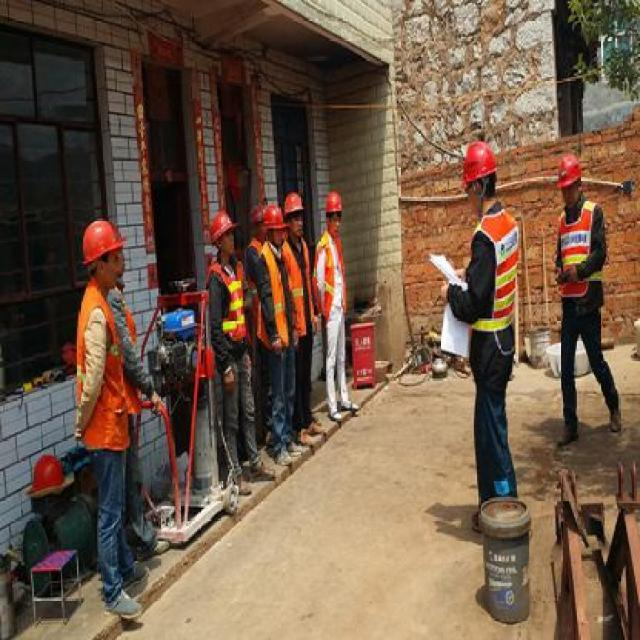helmet: (459, 138, 499, 190), (83, 222, 123, 272), (555, 149, 579, 195), (262, 201, 289, 237), (208, 210, 234, 243), (282, 186, 306, 220), (325, 189, 345, 213)
vest: (76, 280, 132, 451), (474, 209, 517, 326), (257, 246, 303, 346), (558, 200, 596, 302), (280, 238, 320, 332), (209, 255, 247, 343), (313, 233, 352, 317)
